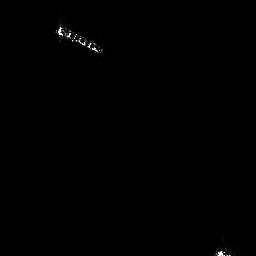ship: (52, 20, 106, 58)
